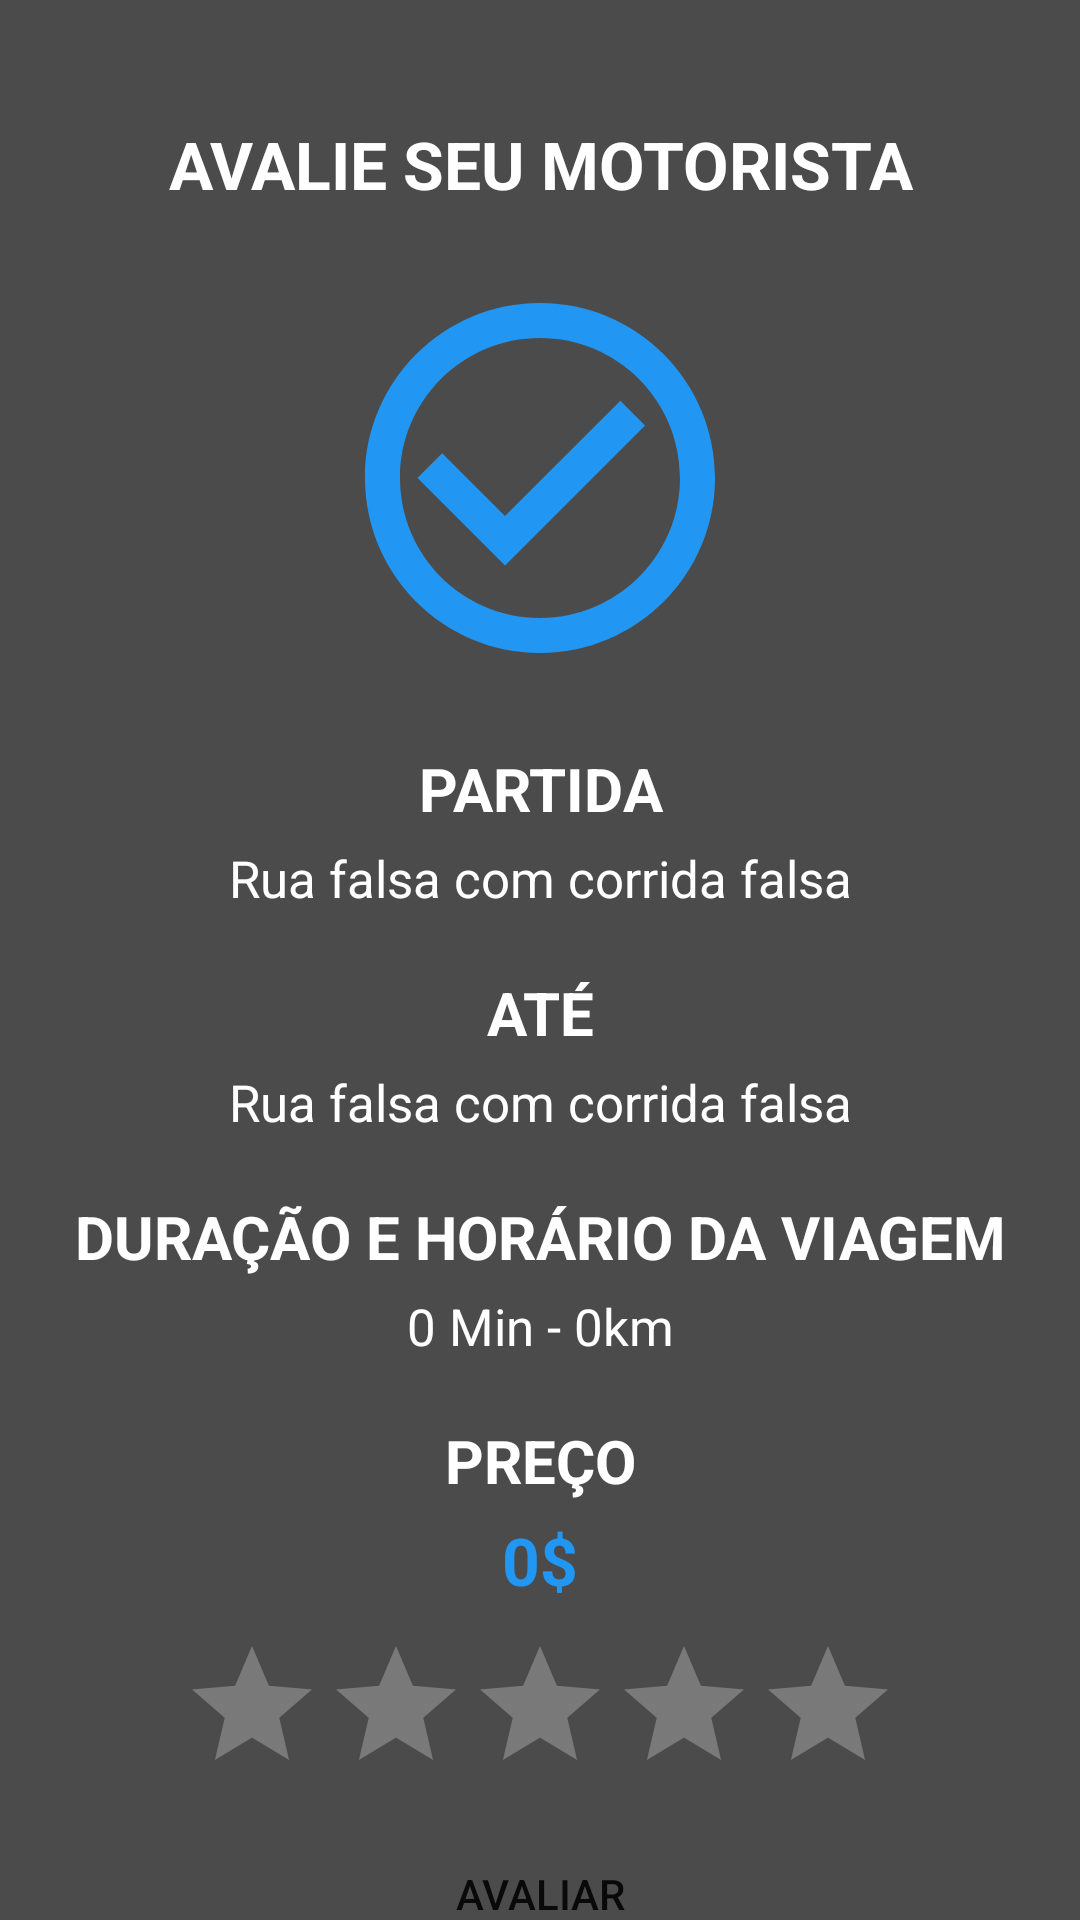

Named icons in this screenshot (1080px×1920px) and their centers, point (x, y):
check: point (540, 478)
